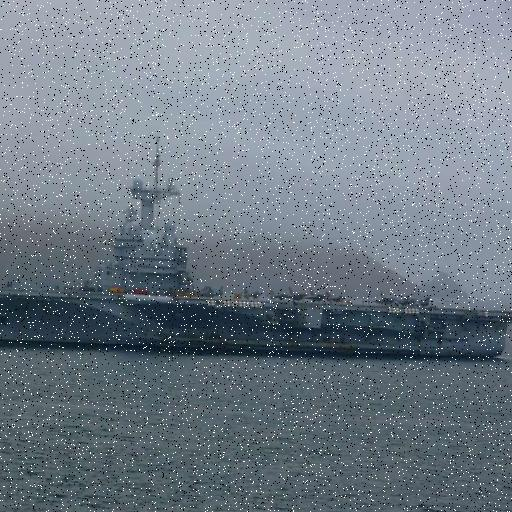Portanaves: (1, 135, 512, 364)
